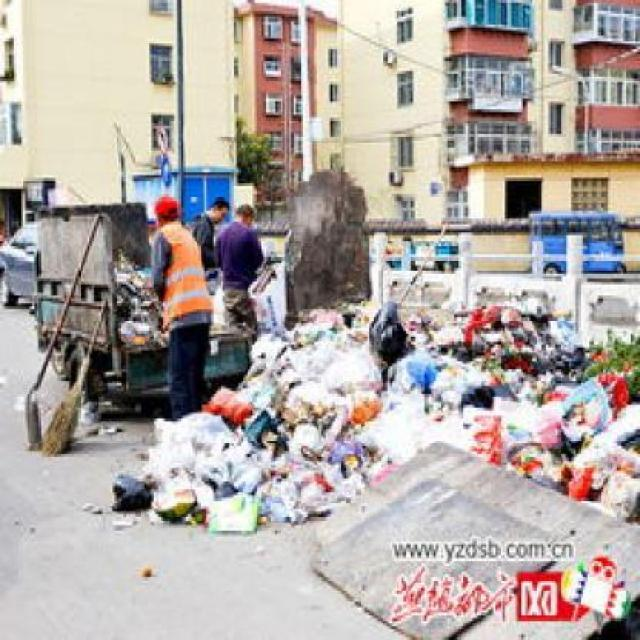garbage: (251, 315, 638, 413), (131, 405, 400, 509), (480, 419, 638, 506), (56, 390, 129, 453)
